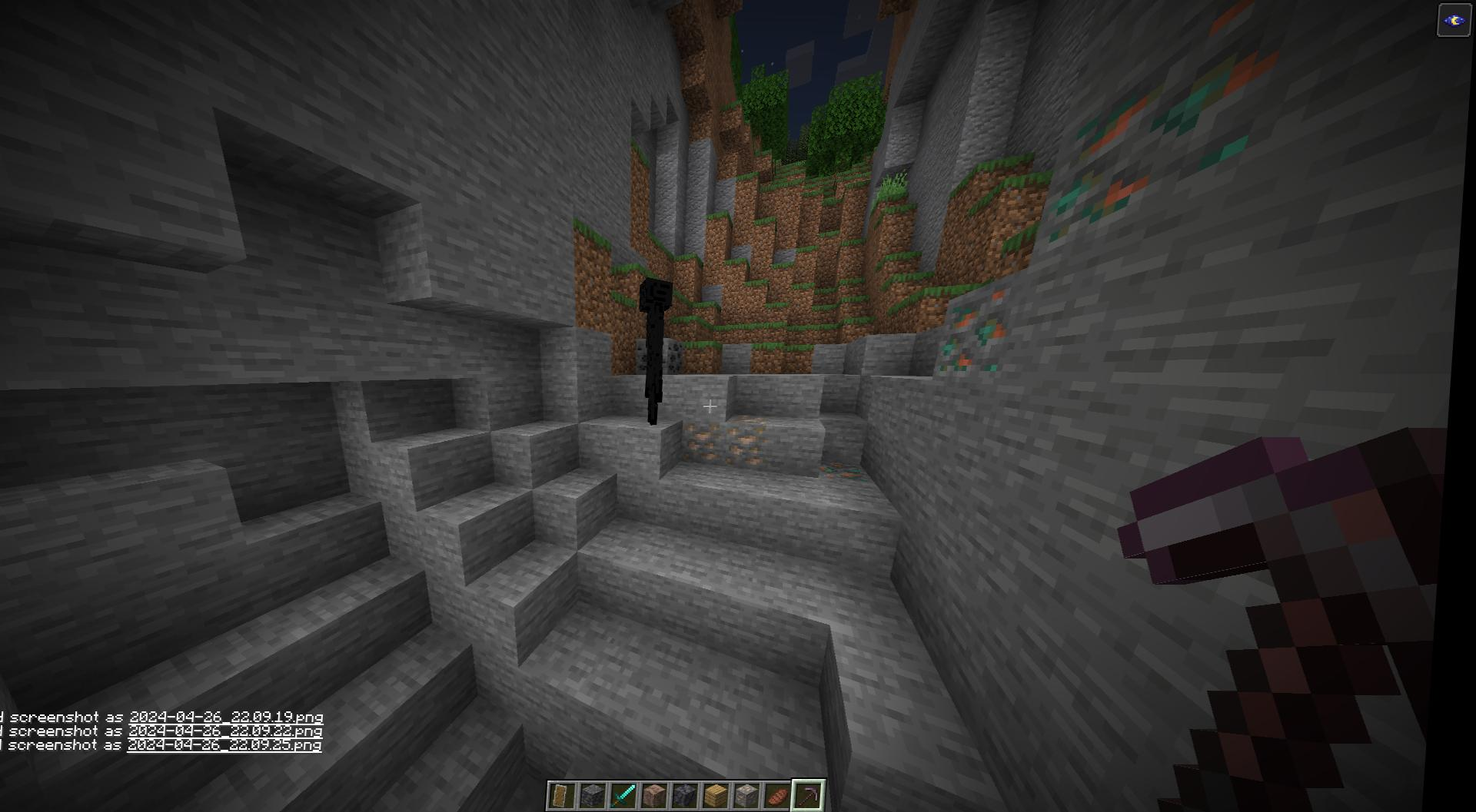iron ore: (726, 412, 780, 475), (691, 420, 728, 462)
